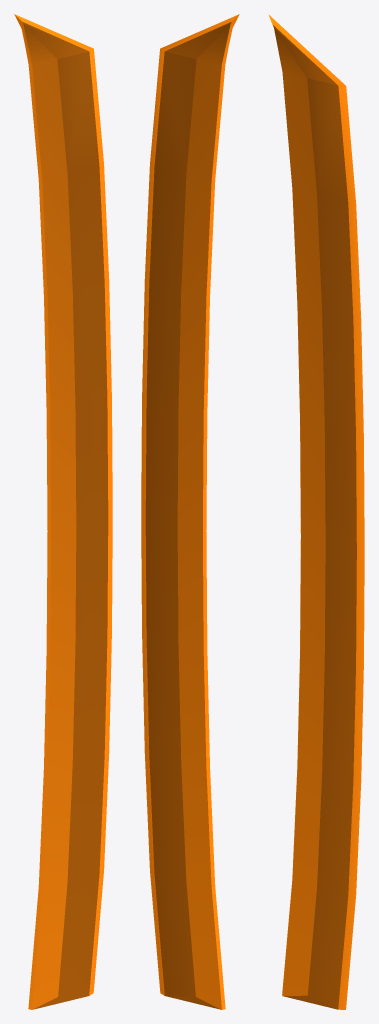
Rendered from bronze_blade (5).glb.
The picture shows the model from 3 angles, left to right: view 1: azimuth 30°, elevation 25°; view 2: azimuth 150°, elevation 25°; view 3: azimuth 330°, elevation 25°; orthographic projection. The views are drawn at different scales.
Visible parts, largest first — view 1: bronze_blade_steel.038; view 2: bronze_blade_steel.038; view 3: bronze_blade_steel.038.
Boxes of the visible parts, x1,y1,x2,y2 form: bronze_blade_steel.038: (14,14,112,1009); bronze_blade_steel.038: (141,14,239,1009); bronze_blade_steel.038: (268,14,364,1009).
Size of the model in its own units: 1.22 by 11.77 by 0.0749.
Materials: 1 (1 with a texture image).
